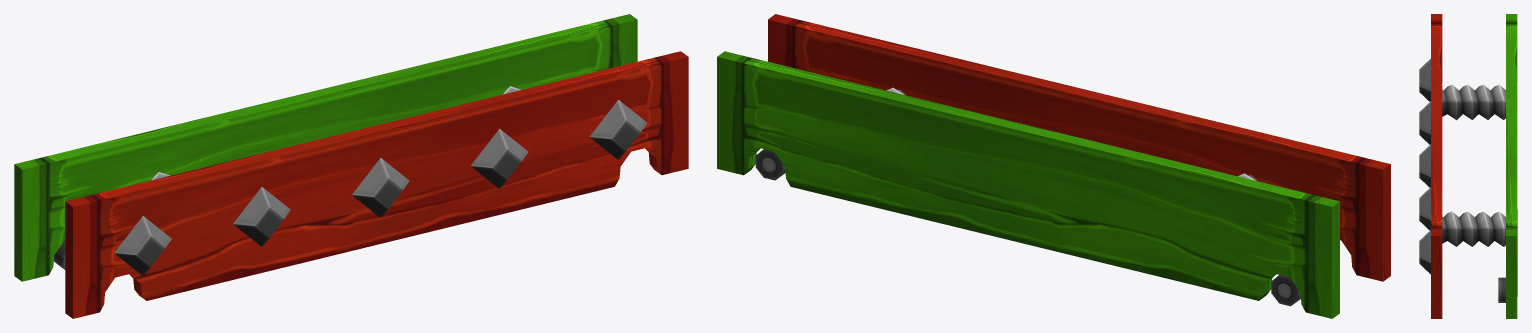
File: dynamic_fence_burger_03.fbx
The picture shows the model from 3 angles, left to right: view 1: azimuth 30°, elevation 25°; view 2: azimuth 150°, elevation 25°; view 3: azimuth 270°, elevation 25°; orthographic projection. The views are drawn at different scales.
Parts seen in each view (by area): view 1: dynamic_fence_burger_03; view 2: dynamic_fence_burger_03; view 3: dynamic_fence_burger_03.
Part boxes in pixels (<box>): dynamic_fence_burger_03: <box>14,14,688,318</box>; dynamic_fence_burger_03: <box>717,14,1390,318</box>; dynamic_fence_burger_03: <box>1419,14,1517,318</box>.
Size of the model in its own units: 230 by 40 by 42.9.
